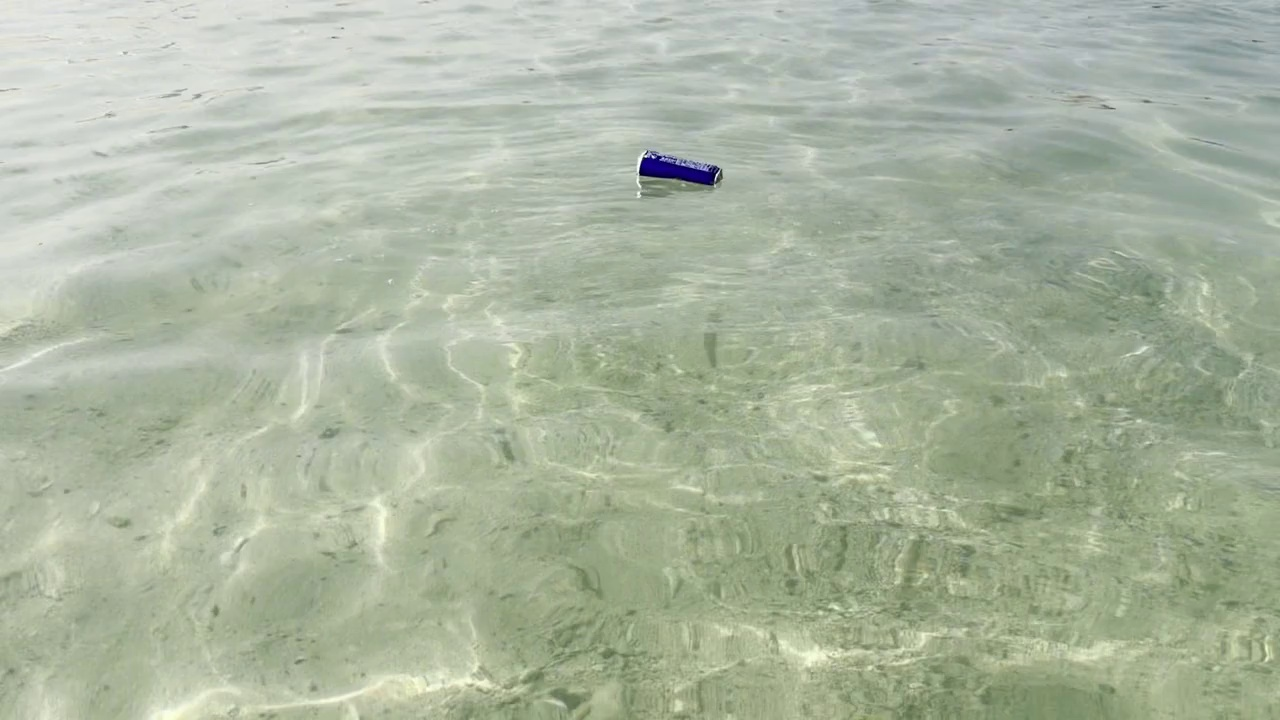debris: (637, 146, 729, 191)
